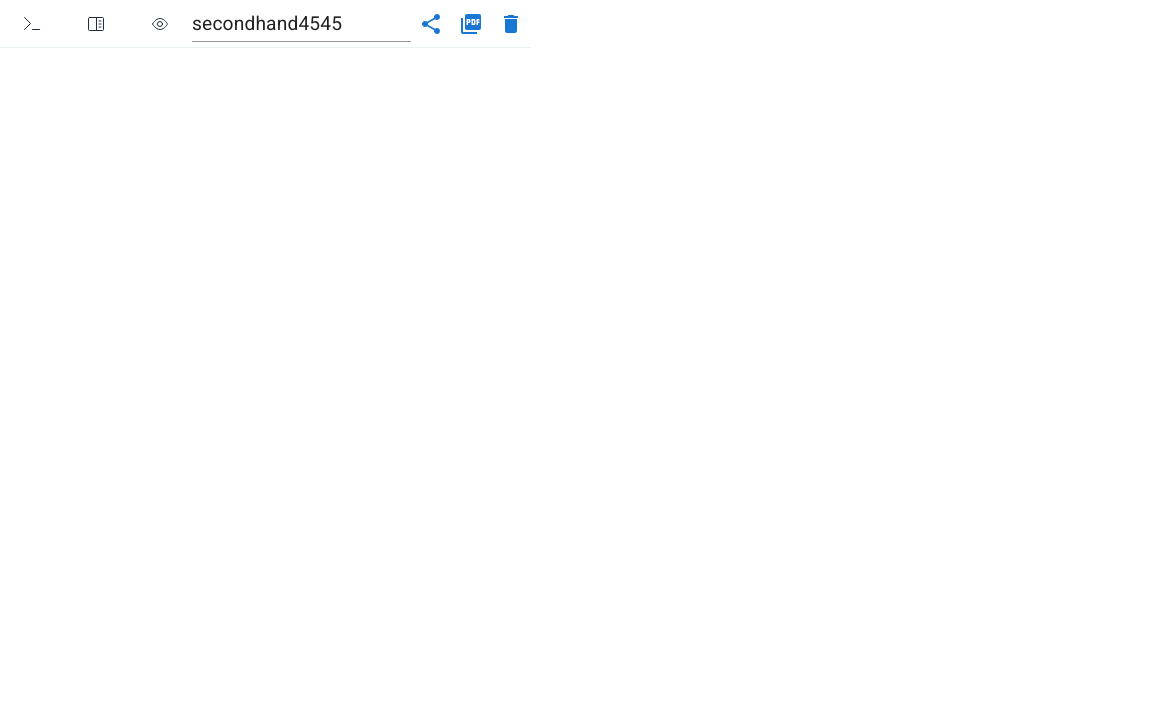
Test: Editor header - shared notes link modal › Editor header - check 3 types of shared note exists
Click the button with test id "shared-note-share-btn". click: coordinates (431, 24)
box: [411,4,451,44]
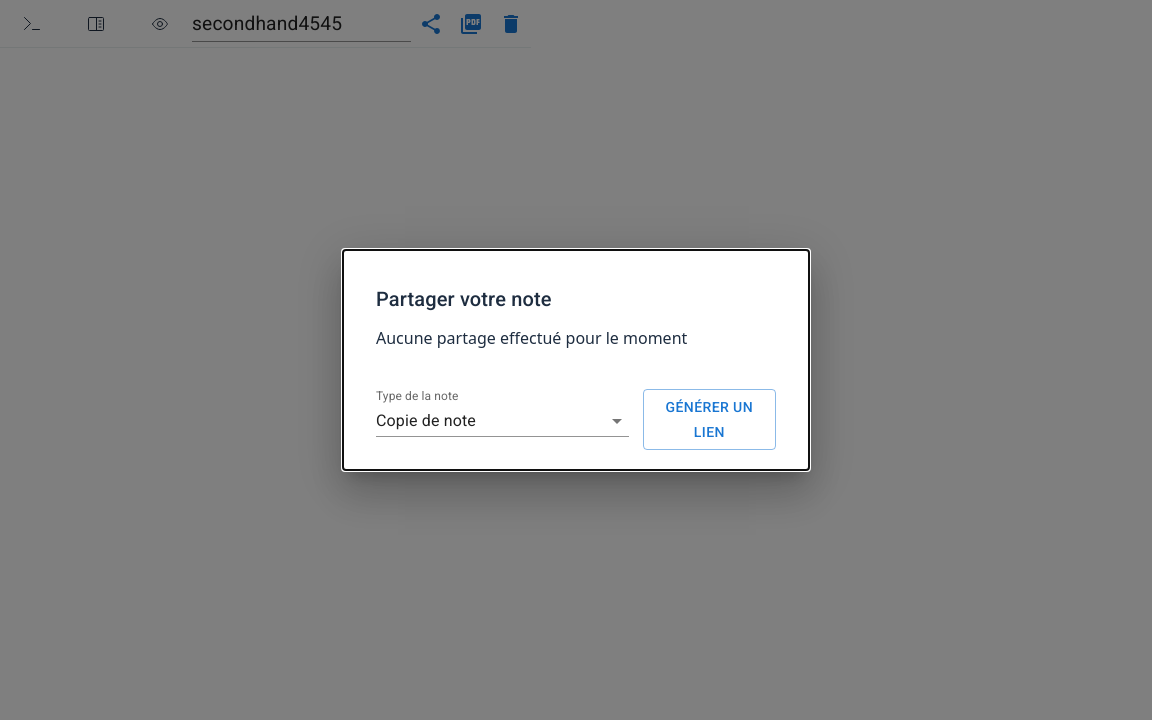
Expected: the element with test id "shared-note-modal-body" is shown
